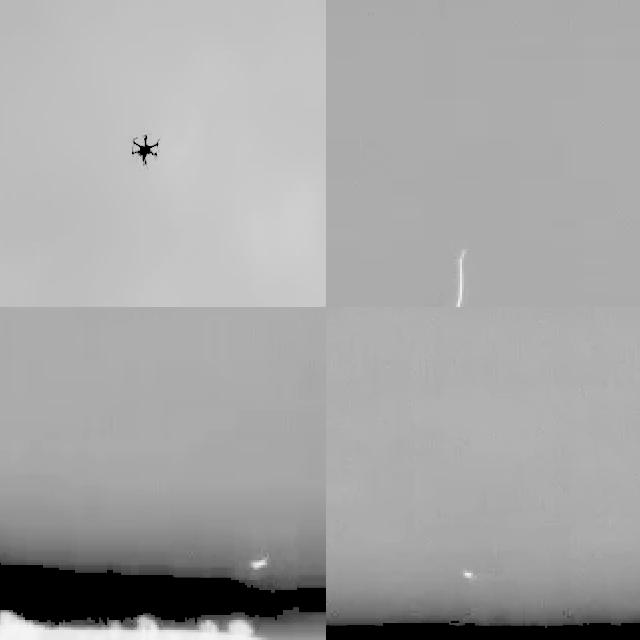1: (239, 548, 281, 588), (459, 562, 481, 584)
drone: (124, 127, 166, 172)
